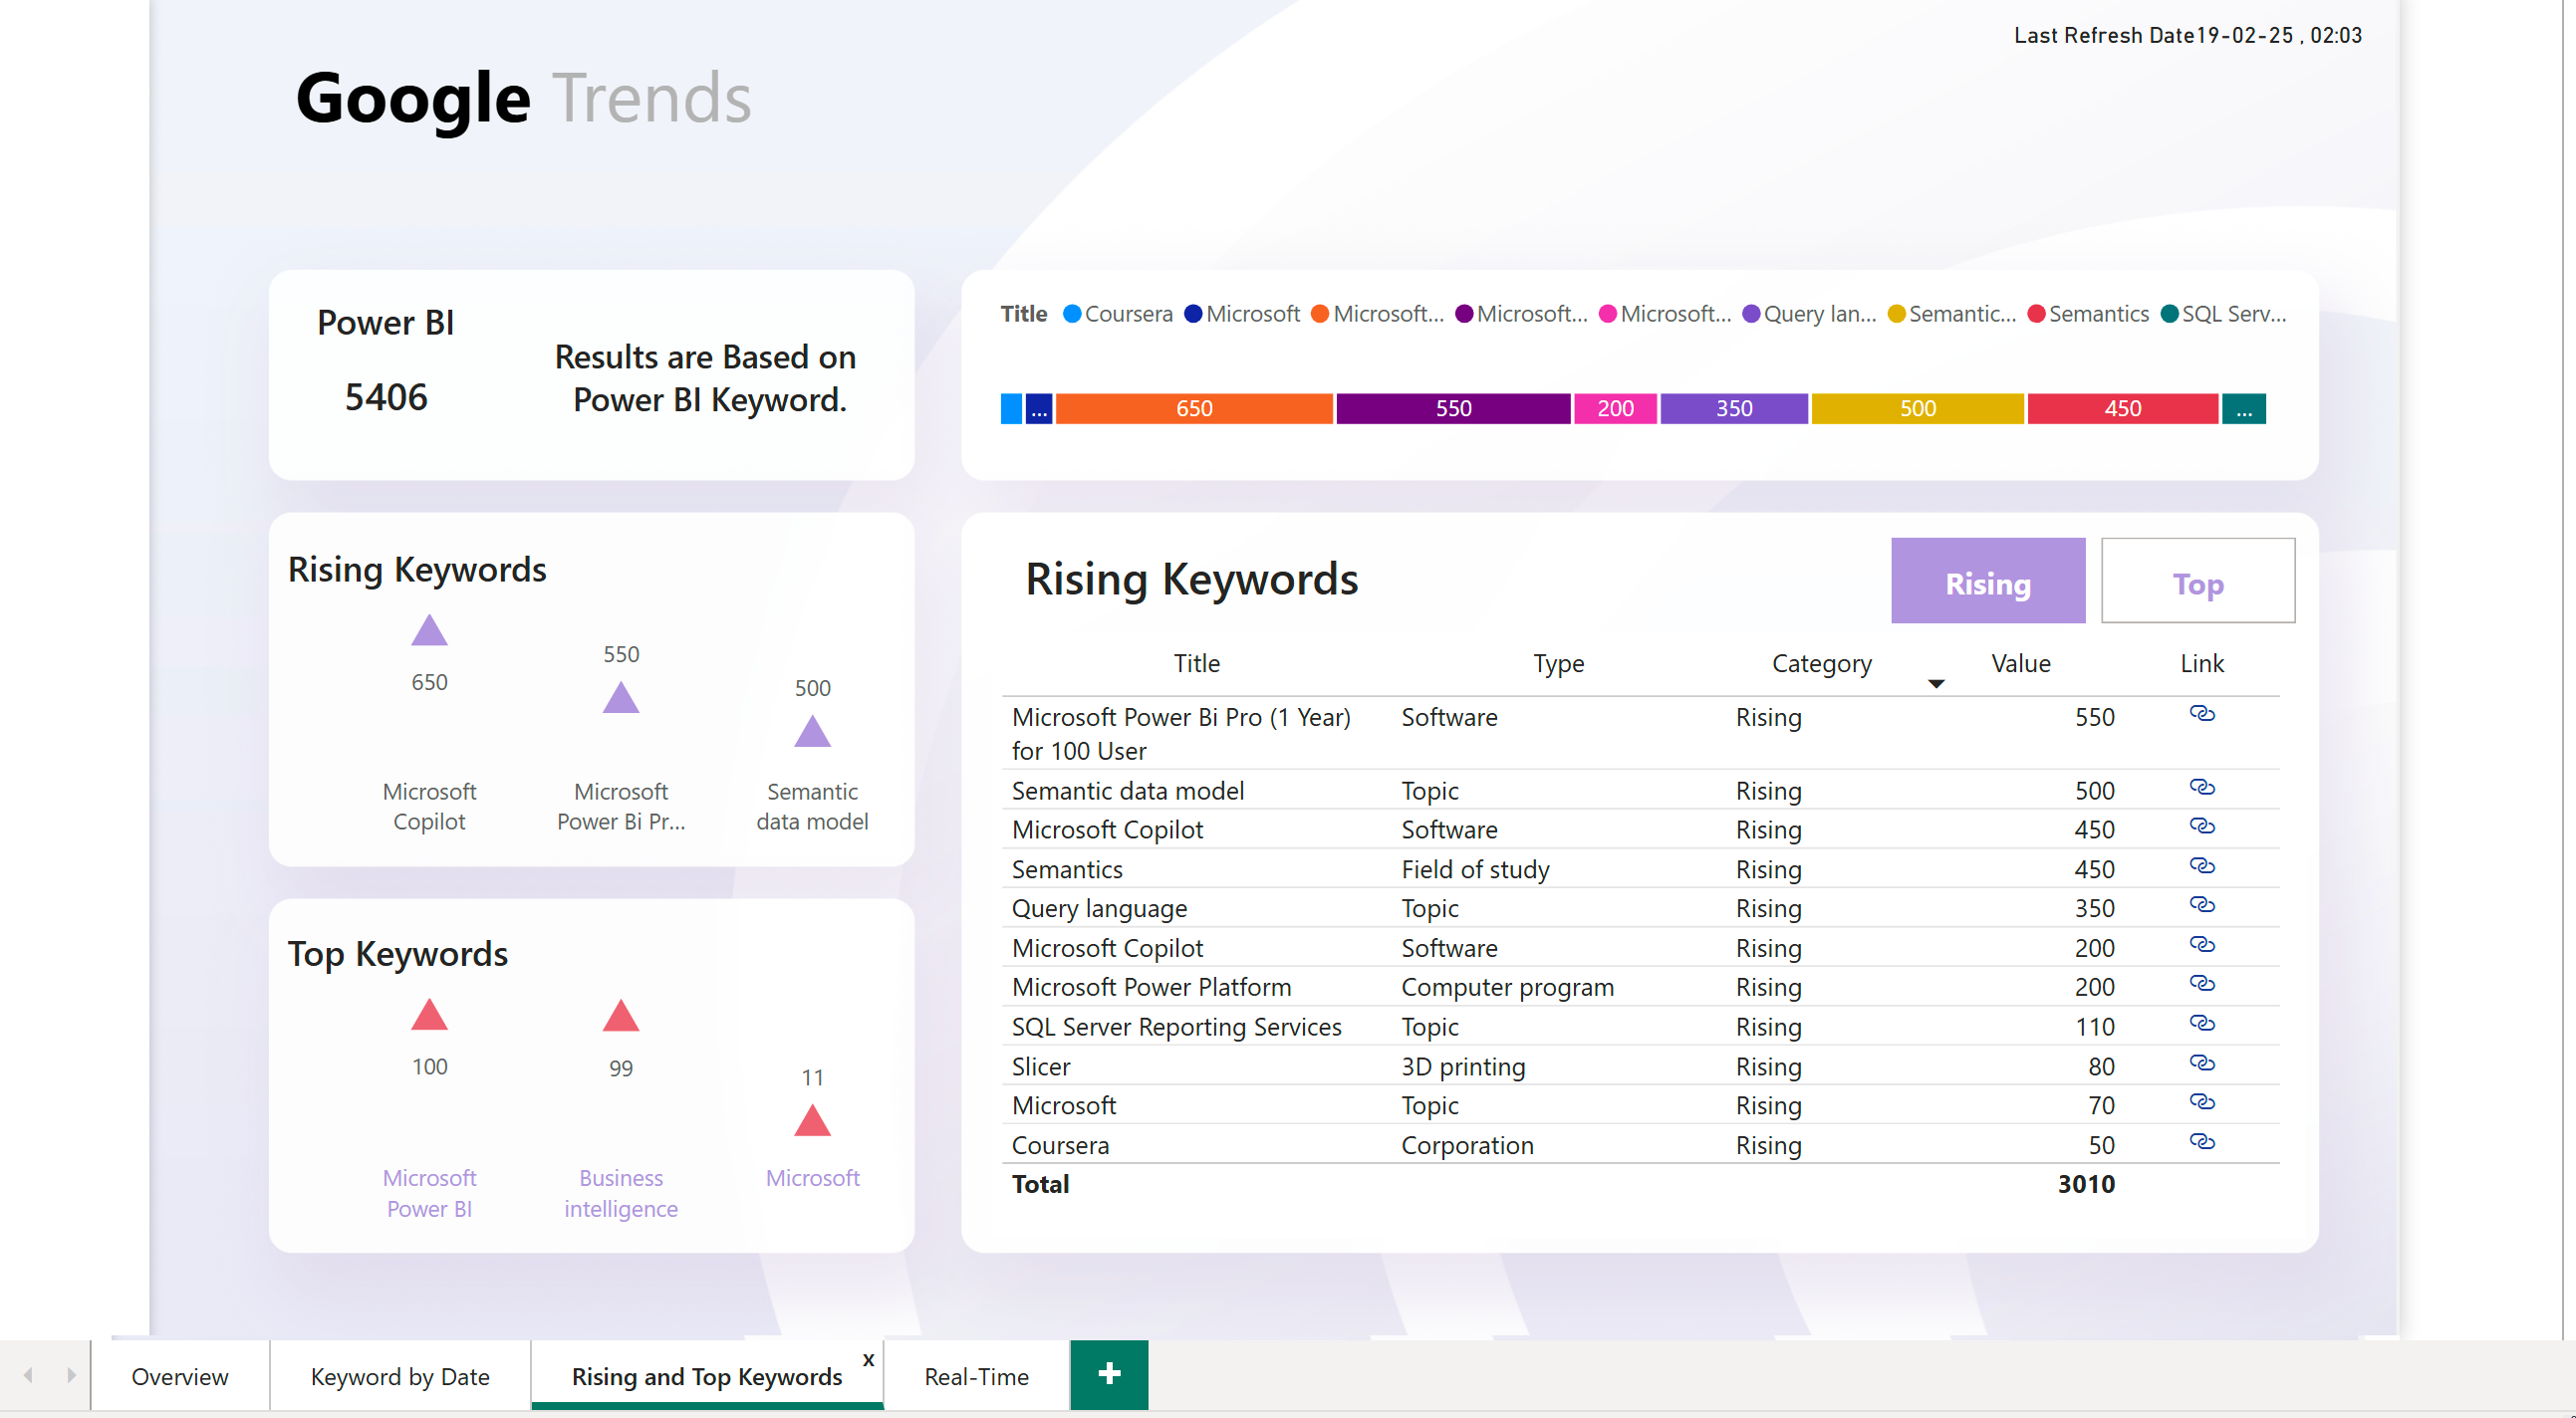

The dashboard page shown, as its layout file describes it:
{"tool":"powerbi","page":{"name":"Rising and Top Keywords","canvas":[1280,720],"ordinal":2},"visuals":[{"type":"card","fields":{"Values":["By_Date_API.Imp_Value"]},"box":[140.6,163.3,132.3,84.6],"z":0},{"type":"card","fields":{"Values":["Related_Keywords_Main.Imp_Short_Title"]},"box":[272.9,163.3,212.1,84.6],"z":1000},{"type":"lineChart","title":"Rising Keywords","fields":{"Category":["Rising_Keywords.Title"],"Y":["Sum(Rising_Keywords.Value)"]},"box":[148.8,295.1,336.9,163.5],"z":2000},{"type":"lineChart","title":"Top Keywords","fields":{"Category":["Top_Keywords.Title"],"Y":["Sum(Top_Keywords.Value)"]},"box":[148.8,500.4,336.9,164.8],"z":3000},{"type":"textbox","box":[152.9,24.4,467.3,92.4],"z":4000},{"type":"barChart","fields":{"Y":["Sum(Rising_Keywords.Value)"],"Series":["Rising_Keywords.Title"]},"box":[529.2,153,700.8,105.8],"z":5000},{"type":"tableEx","fields":{"Values":["Top_Rising.Title","Top_Rising.Type","Top_Rising.Category","Sum(Top_Rising.Value)","Top_Rising.Link"]},"box":[528.7,343.1,700.9,322.2],"z":6000},{"type":"advancedSlicerVisual","fields":{"Values":["Top_Rising.Category"]},"box":[1003.3,286.5,226.2,56.6],"z":7000},{"type":"card","fields":{"Values":["Top_Rising.Title_TR"]},"box":[528.7,280.3,213.9,67.6],"z":8000},{"type":"card","fields":{"Values":["Min(Refresh_Date.Refresh_Date)"]},"box":[1054.7,0,225.3,51.2],"z":9000}]}

Visuals, with their boxes on the page's 1280x720 design canvas (x1, y1, x2, y2). These are canvas units, not pixel positions in the 2576x1418 screenshot, which may show the page scaled, cropped or inside an application window:
card - By_Date_API.Imp_Value: locate(141, 163, 273, 248)
card - Related_Keywords_Main.Imp_Short_Title: locate(273, 163, 485, 248)
"Rising Keywords" lineChart: locate(149, 295, 486, 459)
"Top Keywords" lineChart: locate(149, 500, 486, 665)
textbox: locate(153, 24, 620, 117)
barChart - Sum(Rising_Keywords.Value) x Rising_Keywords.Title: locate(529, 153, 1230, 259)
tableEx - Top_Rising.Title x Top_Rising.Type: locate(529, 343, 1230, 665)
advancedSlicerVisual - Top_Rising.Category: locate(1003, 286, 1230, 343)
card - Top_Rising.Title_TR: locate(529, 280, 743, 348)
card - Min(Refresh_Date.Refresh_Date): locate(1055, 0, 1280, 51)
